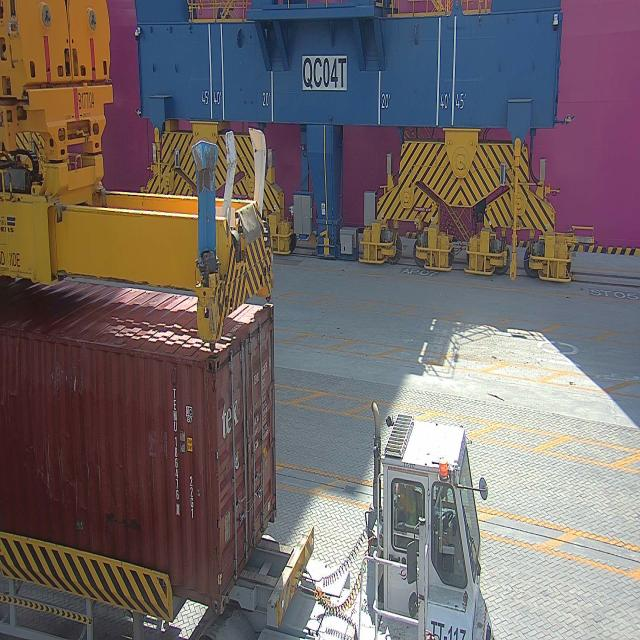rust: (105, 507, 141, 536)
